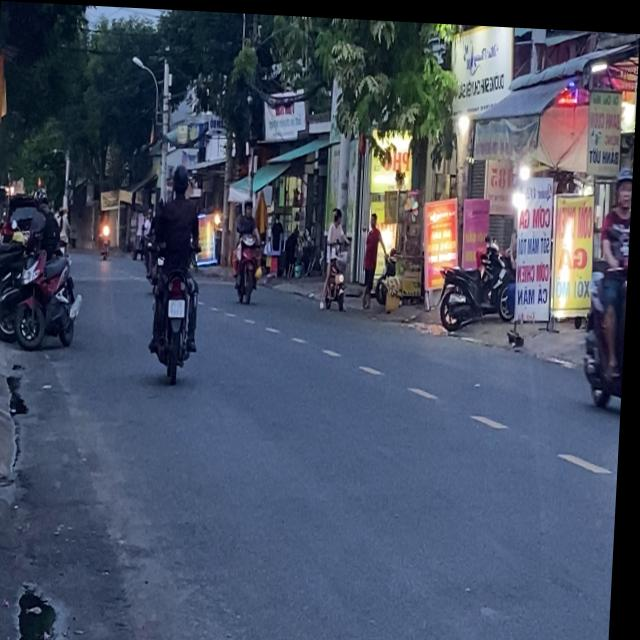helmet: (616, 158, 635, 201), (173, 160, 193, 195)
licenseplate: (580, 156, 635, 415), (147, 157, 211, 379)
nohelmet: (171, 295, 188, 314)
